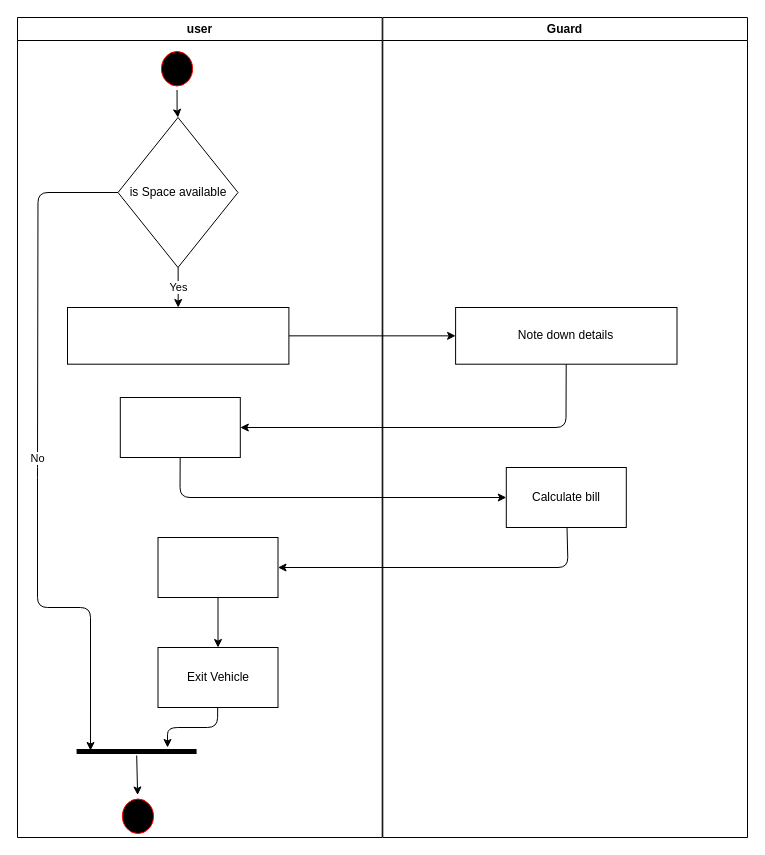
The diagram is 765 pixels wide and 855 high, and some of its shapes have lost their labels. Here are the shapes that lost their labels. From the top down, the centre of each, then its label:
At [177,335]: "Enter Vehicle to the park".
At [179,427]: "Ask For Payment".
At [217,567]: "Pay bill".
